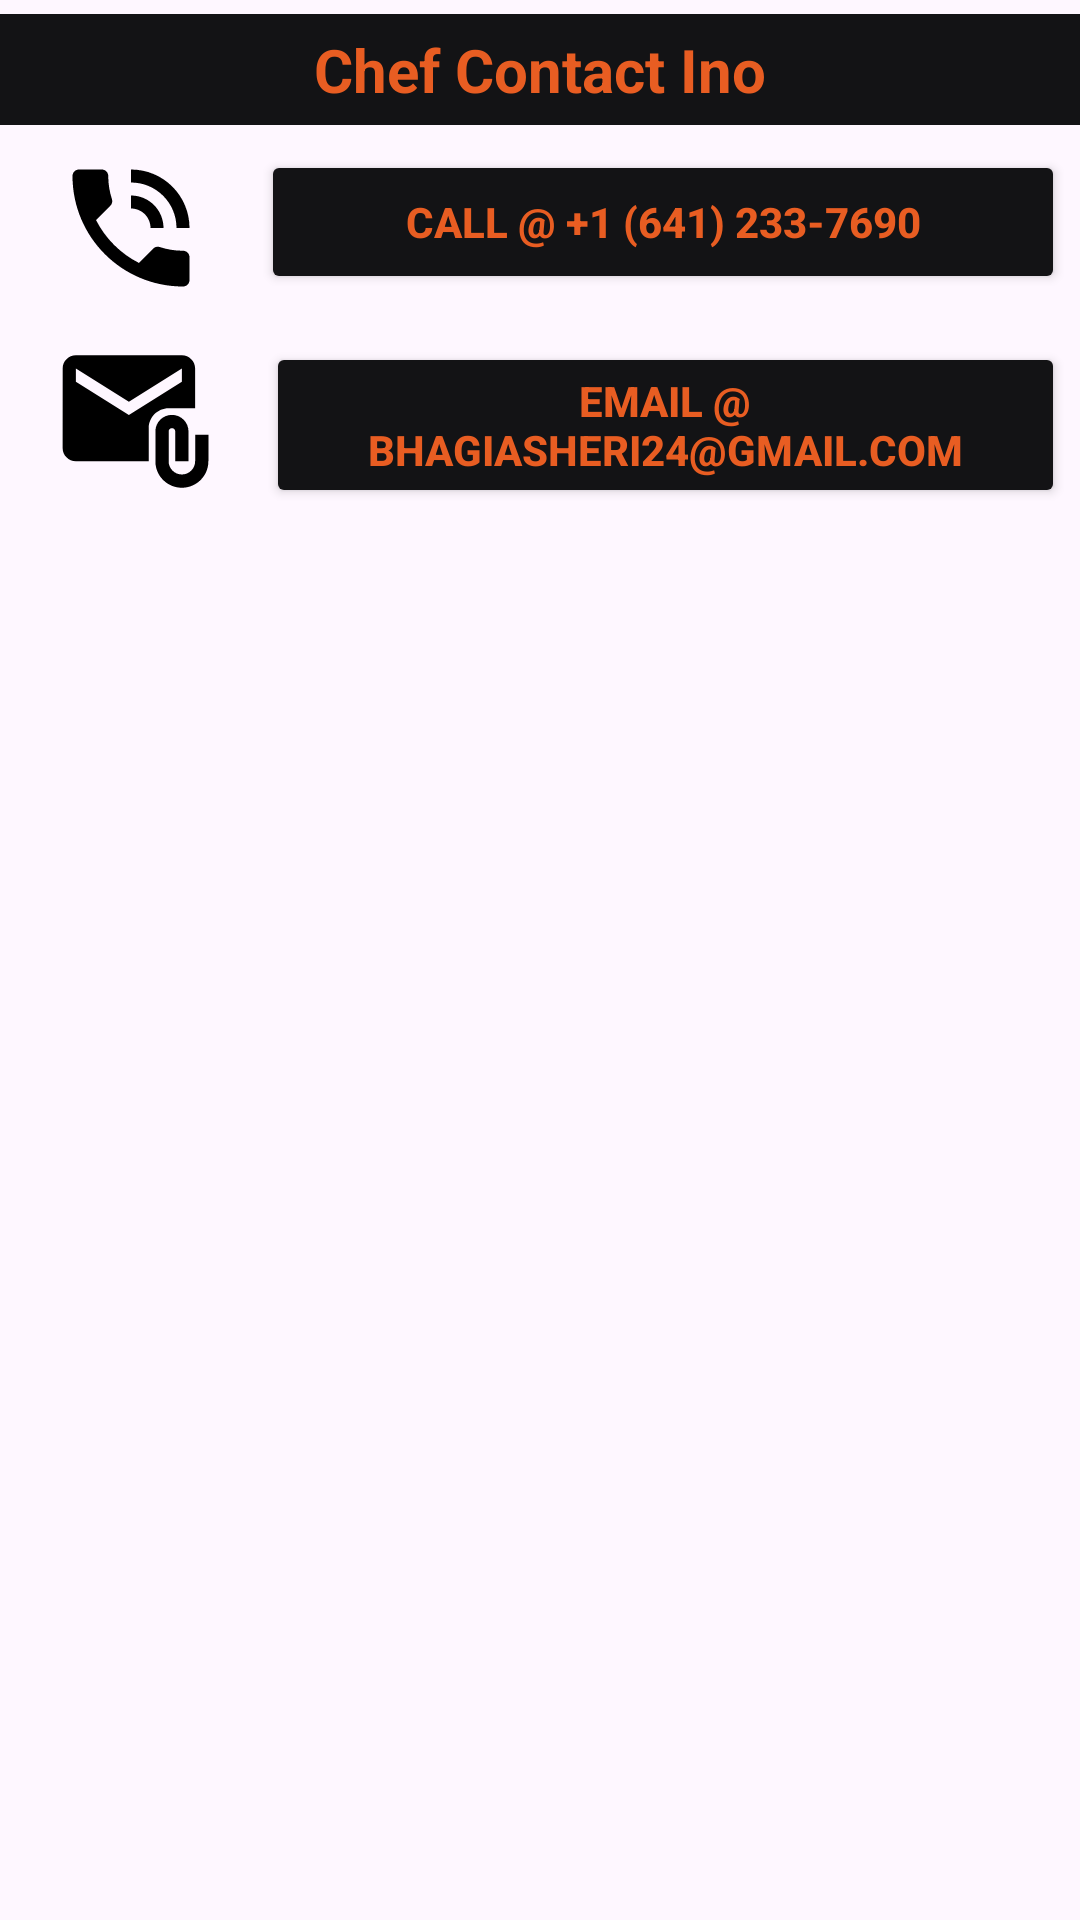

Where to tap for icons on this 1080 x 1920 app screen, as (x,y):
attach email: (135,421)
phone in talk: (131,228)
